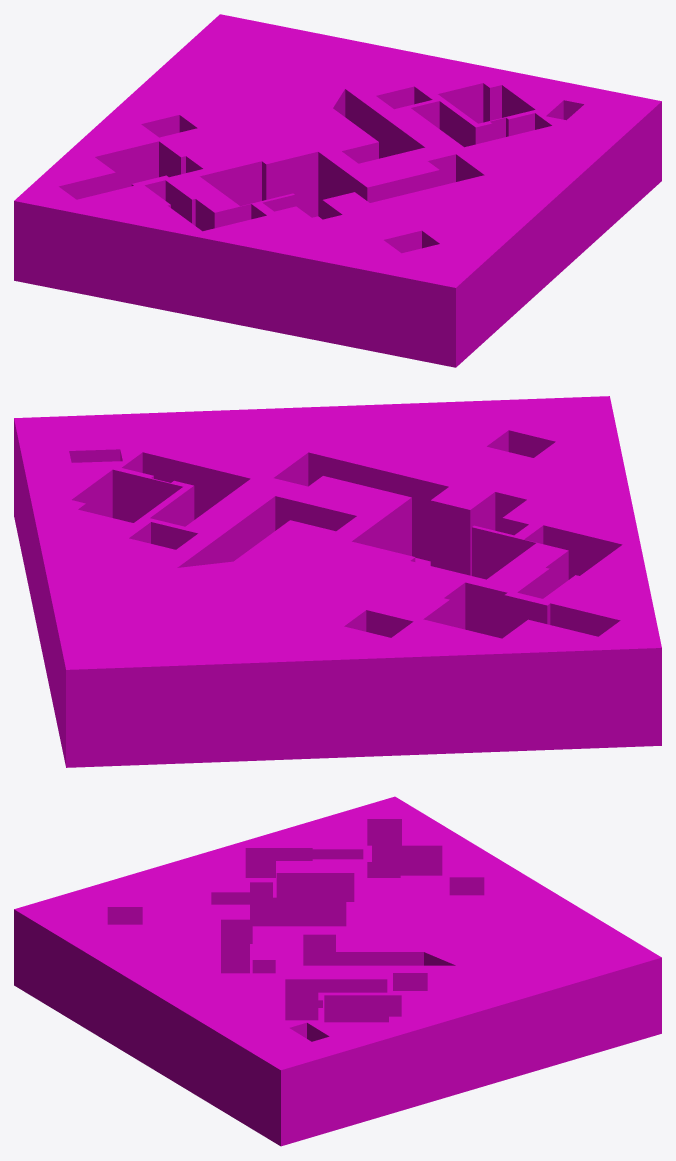
File: Oswiecim_BasePlate.fbx
3 views of the same model, one above another, from view 1: azimuth 30°, elevation 25°; view 2: azimuth 150°, elevation 25°; view 3: azimuth 270°, elevation 25° (orthographic). The views are drawn at different scales.
Parts seen in each view (by area): view 1: mesh_basePlate; view 2: mesh_basePlate; view 3: mesh_basePlate.
Part boxes in pixels (x1,y1,x2,y2): mesh_basePlate: (14, 14, 661, 367); mesh_basePlate: (14, 396, 661, 767); mesh_basePlate: (14, 796, 661, 1146).
Size of the model in its own units: 10530 by 1365 by 10530.
